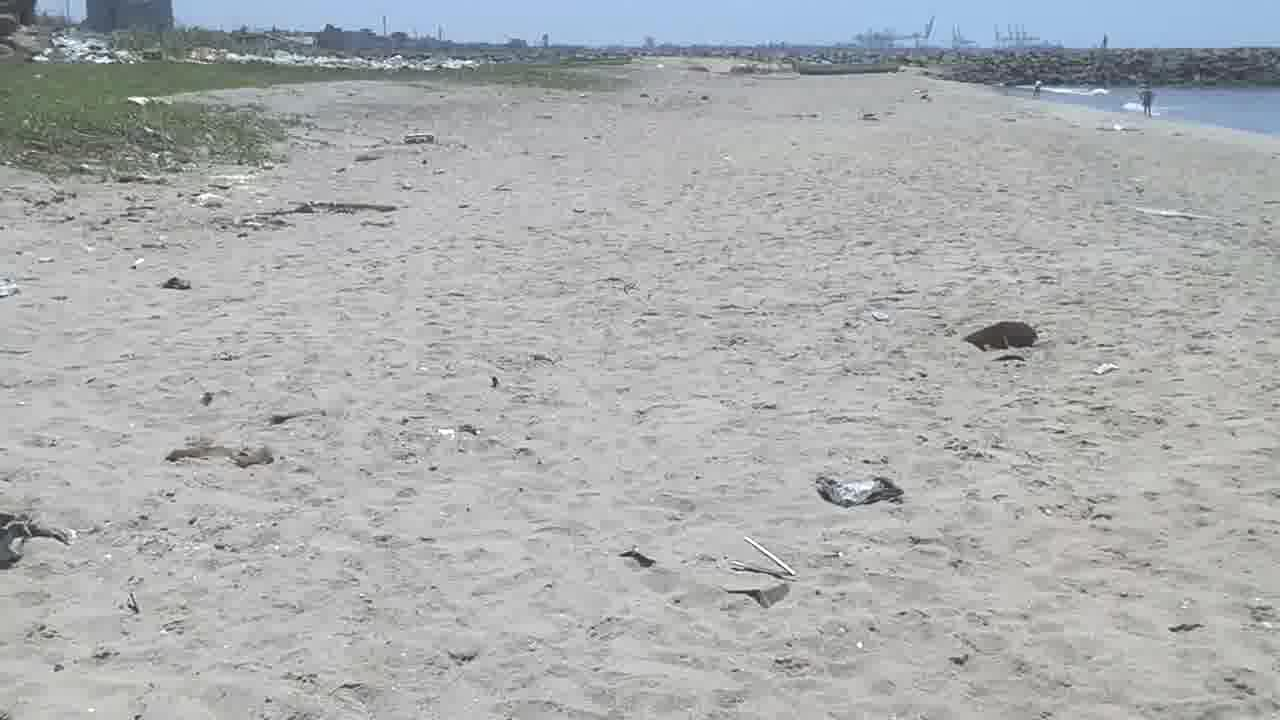large collection of objects: (623, 516, 800, 604)
obj: (240, 198, 398, 231), (1, 509, 75, 569), (810, 467, 910, 511), (963, 322, 1038, 358)
sand/background: (1, 0, 1279, 203)
